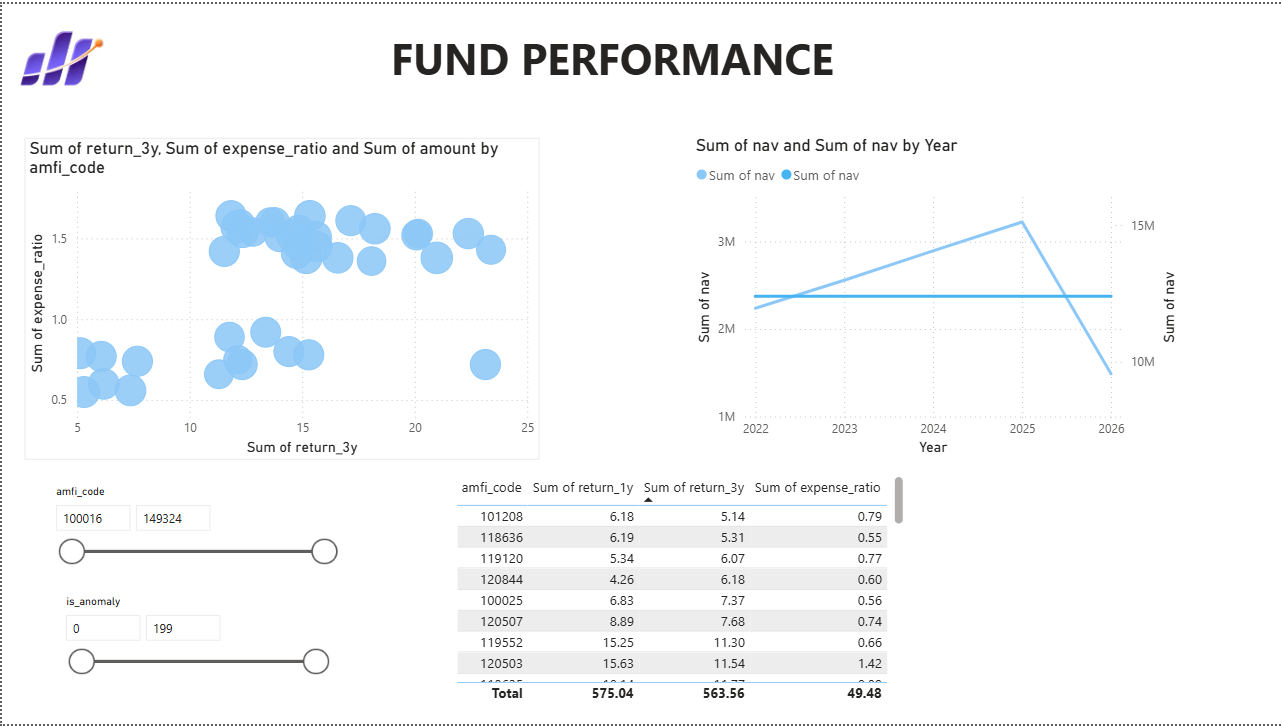

The dashboard page shown, as its layout file describes it:
{"tool":"powerbi","page":{"name":"Fund Performance","canvas":[1280,720],"ordinal":1},"visuals":[{"type":"textbox","box":[412.1,1.2,423.1,116.2],"z":0},{"type":"image","box":[0,0,119.4,109.8],"z":1000},{"type":"scatterChart","fields":{"X":["Sum(Fund_Performance.return_3y)"],"Y":["Sum(Fund_Performance.expense_ratio)"],"Category":["Schemes.amfi_code"],"Size":["Sum(Transactions_Fact.amount)"]},"box":[22.5,133.8,515,322.5],"z":2000},{"type":"tableEx","fields":{"Values":["Schemes.amfi_code","Sum(Fund_Performance.return_1y)","Sum(Fund_Performance.return_3y)","Sum(Fund_Performance.expense_ratio)"]},"box":[448.8,467.5,457.5,236.2],"z":3000},{"type":"slicer","fields":{"Values":["Fund_Performance.is_anomaly"]},"box":[51.2,586.2,283.8,115],"z":4000},{"type":"textbox","box":[384,19.6,462.2,69.7],"z":5000},{"type":"slicer","fields":{"Values":["AMCs.amfi_code"]},"box":[41.6,475.7,302,91.7],"z":6000},{"type":"lineChart","fields":{"Category":["NAV_History.date.Variation.Date Hierarchy.Year","NAV_History.date.Variation.Date Hierarchy.Quarter","NAV_History.date.Variation.Date Hierarchy.Month","NAV_History.date.Variation.Date Hierarchy.Day"],"Y":["Sum(NAV_History.nav)"],"Y2":["Sum(Nifty_50.nav)"]},"box":[688.8,131.2,491.2,325],"z":7000}]}

Visuals, with their boxes in screenshot pixels (x1, y1, x2, y2), scaled from the page's 1280x720 canvas onto the 1282x727 screenshot:
textbox: {"left": 413, "top": 1, "right": 837, "bottom": 119}
image: {"left": 0, "top": 0, "right": 120, "bottom": 111}
scatterChart - Sum(Fund_Performance.return_3y) x Sum(Fund_Performance.expense_ratio): {"left": 23, "top": 135, "right": 538, "bottom": 461}
tableEx - Schemes.amfi_code x Sum(Fund_Performance.return_1y): {"left": 450, "top": 472, "right": 908, "bottom": 711}
slicer - Fund_Performance.is_anomaly: {"left": 51, "top": 592, "right": 336, "bottom": 708}
textbox: {"left": 385, "top": 20, "right": 848, "bottom": 90}
slicer - AMCs.amfi_code: {"left": 42, "top": 480, "right": 344, "bottom": 573}
lineChart - NAV_History.date.Variation.Date Hierarchy.Year x NAV_History.date.Variation.Date Hierarchy.Quarter: {"left": 690, "top": 132, "right": 1182, "bottom": 461}
